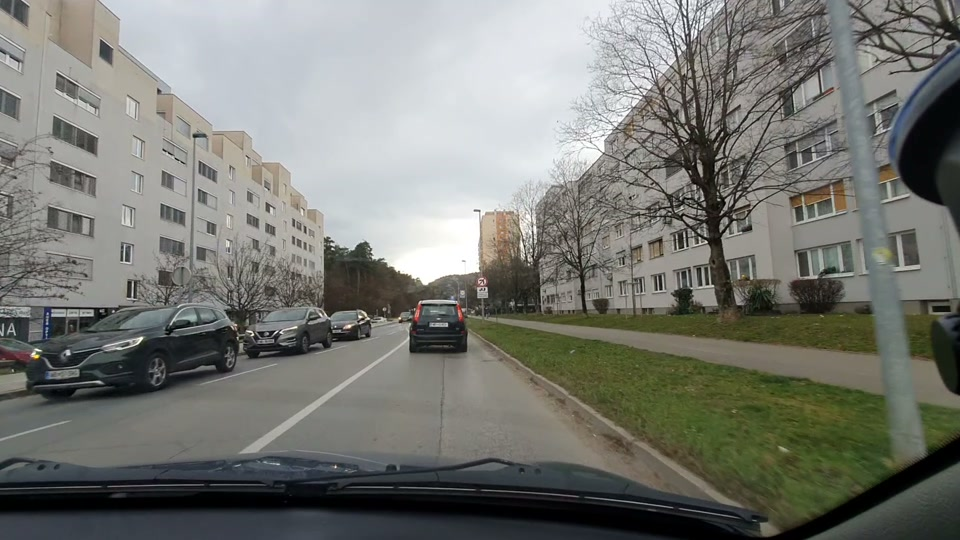vehicle_ign: (405, 295, 476, 360)
vehicle_s: (31, 296, 242, 402), (241, 299, 330, 359), (322, 303, 373, 343)
